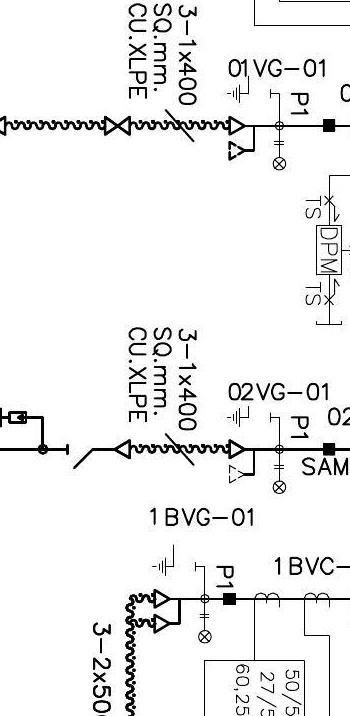22_gs: (152, 544, 198, 578), (227, 75, 273, 105), (227, 404, 272, 428)
22_ll: (272, 140, 287, 171), (272, 464, 287, 495), (197, 613, 212, 644)
DPM: (315, 223, 343, 277)
terminator_double: (153, 588, 182, 635)
terminator_single: (113, 438, 132, 461)
terminator_splicing_kits: (104, 115, 132, 136)
terminator_w_future: (227, 115, 257, 162), (227, 438, 256, 485)
